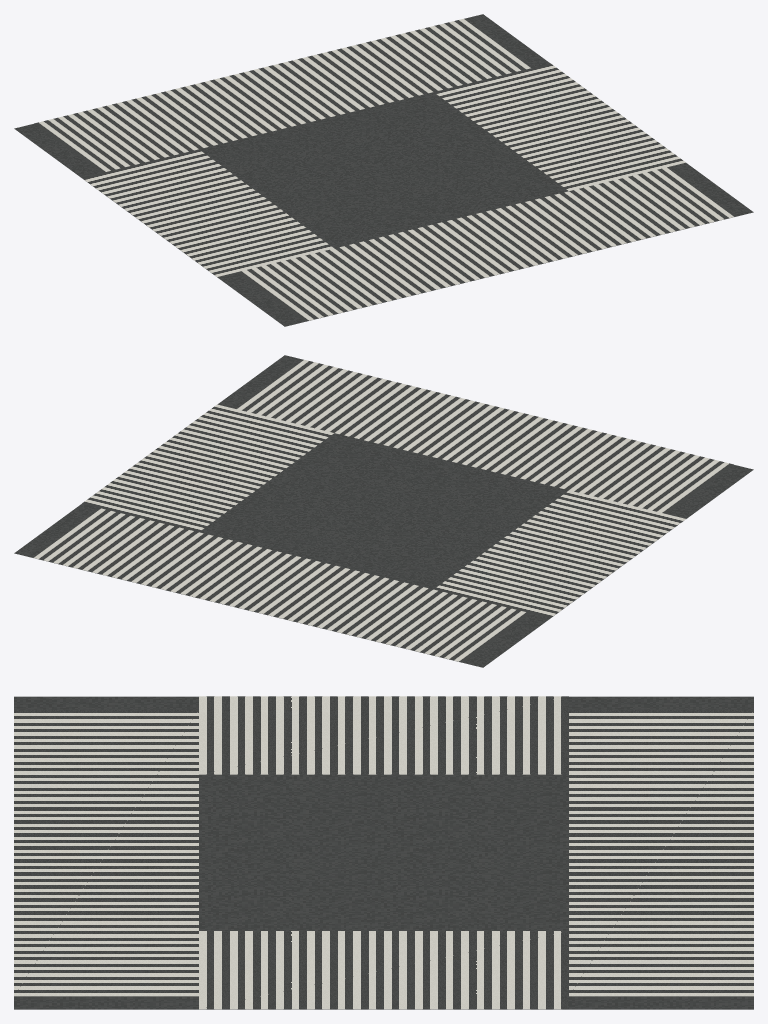
Rendered from intersection_12.glb.
3 renders of one model, top to bottom at view 1: azimuth 30°, elevation 25°; view 2: azimuth 150°, elevation 25°; view 3: azimuth 270°, elevation 25°, orthographic. The views are drawn at different scales.
Parts seen in each view (by area): view 1: intersection_12; view 2: intersection_12; view 3: intersection_12.
Boxes of the visible parts, x1,y1,x2,y2 form: intersection_12: (14, 14, 753, 326); intersection_12: (14, 355, 753, 667); intersection_12: (14, 696, 753, 1009).
Bounding box in the file's own units: 12 × 0.005 × 12.
Materials: 3 (3 with a texture image).
